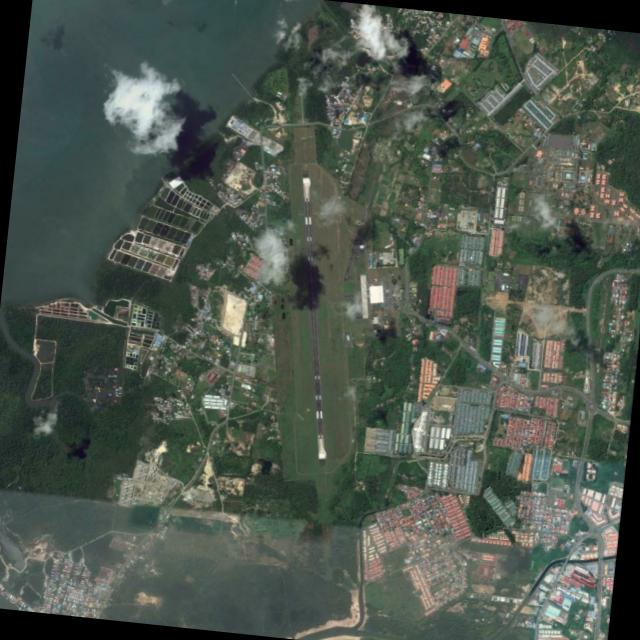storage-tank: (593, 526, 599, 533), (589, 402, 594, 408)
